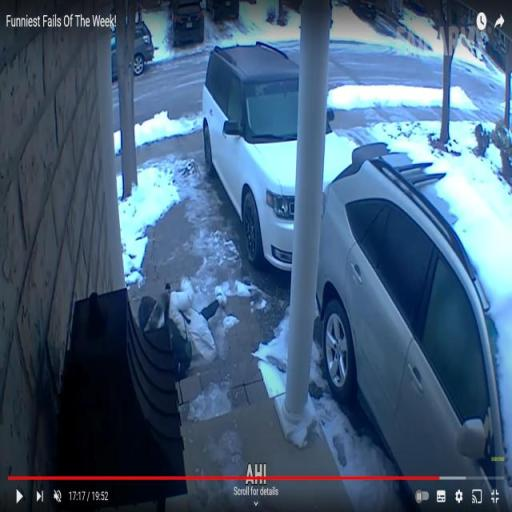Fall: (135, 270, 230, 376)
